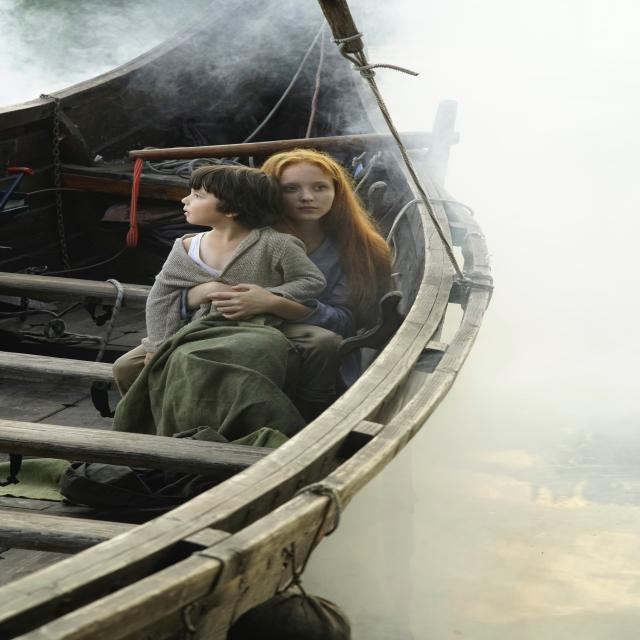adult: (263, 150, 392, 388)
child: (143, 164, 325, 356)
